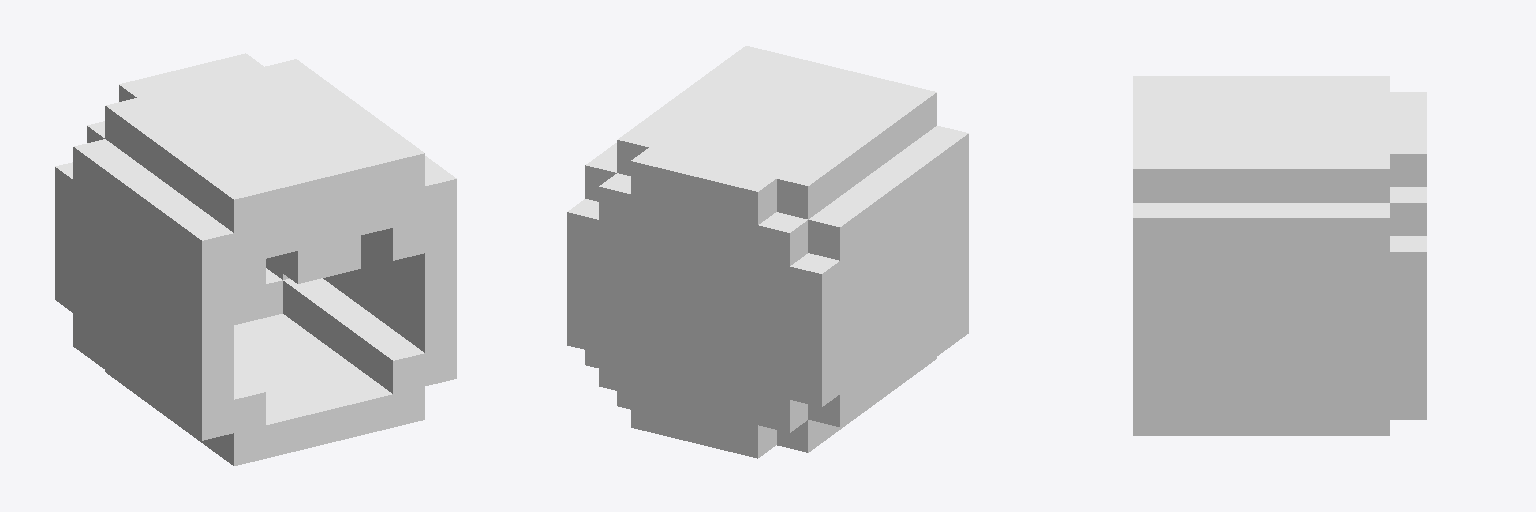
Rendered from Corridor_END.obj.
3 views of the same model, side by side, from view 1: azimuth 30°, elevation 25°; view 2: azimuth 150°, elevation 25°; view 3: azimuth 270°, elevation 25° (orthographic).
Visible parts, largest first — view 1: object 1; view 2: object 1; view 3: object 1.
Part boxes in pixels (x1,y1,x2,y2): object 1: (55,53,456,465); object 1: (567,46,968,458); object 1: (1133,76,1426,435).
Size of the model in its own units: 0.8 by 0.8 by 0.8.